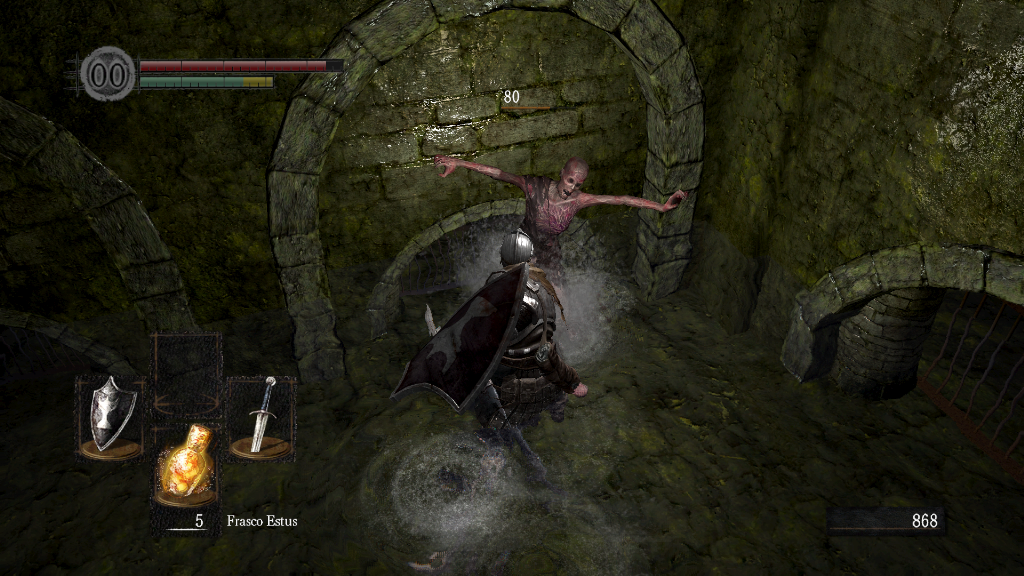health: (138, 58, 343, 71)
hollow: (428, 150, 689, 396)
humanity: (80, 45, 136, 102)
player: (389, 226, 568, 494)
souls: (825, 506, 945, 536)
stamina: (138, 74, 274, 88)
